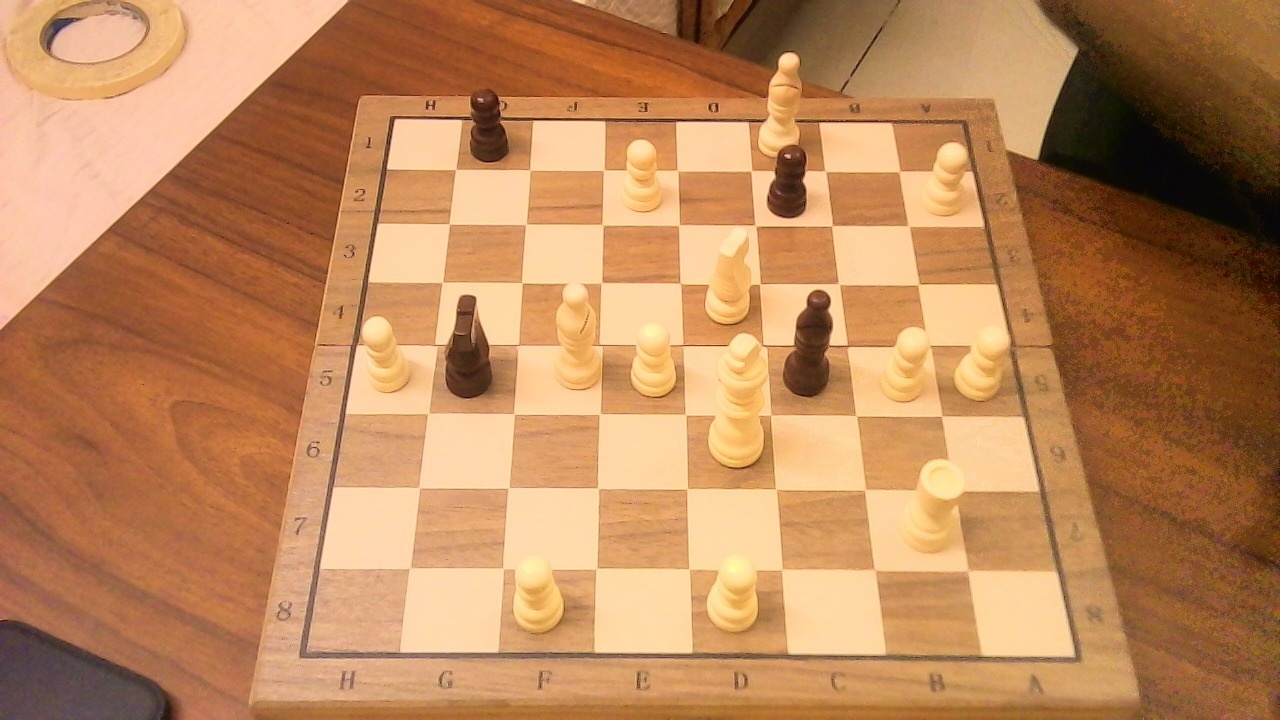B: (543, 271, 605, 396), (754, 41, 813, 162)
K: (697, 320, 777, 471)
N: (694, 215, 762, 329)
P: (505, 544, 572, 638), (699, 544, 767, 636), (948, 316, 1018, 404), (353, 307, 417, 398), (872, 318, 937, 407), (618, 312, 681, 401), (914, 133, 977, 219), (611, 130, 669, 217)
R: (893, 448, 972, 560)
b: (778, 276, 850, 401)
n: (436, 281, 506, 401)
p: (760, 135, 820, 222), (463, 80, 518, 165)
